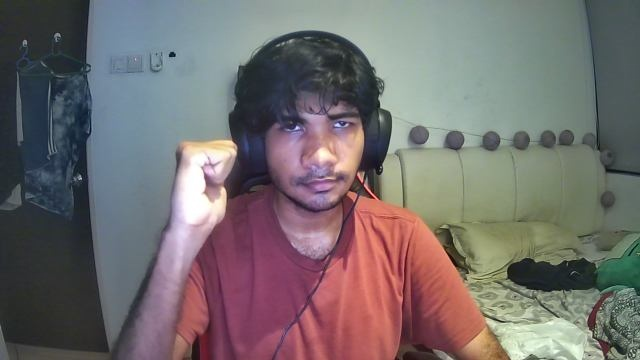Goodbye: (167, 140, 238, 230)
